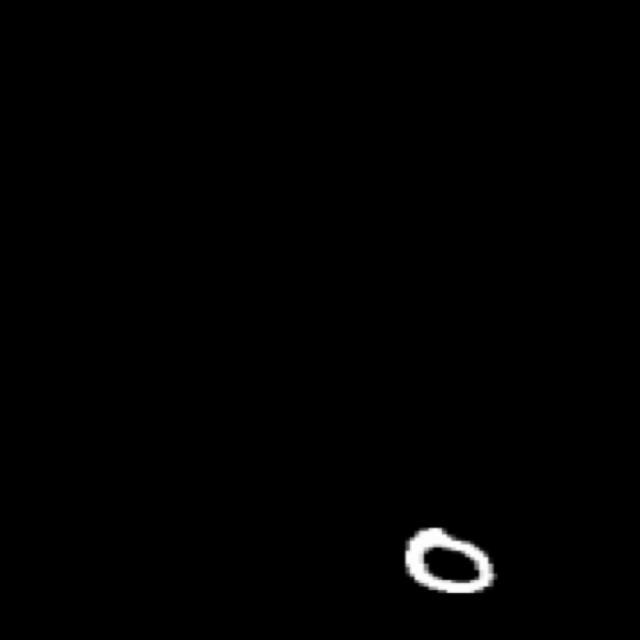zero -0-: (384, 509, 514, 609)
